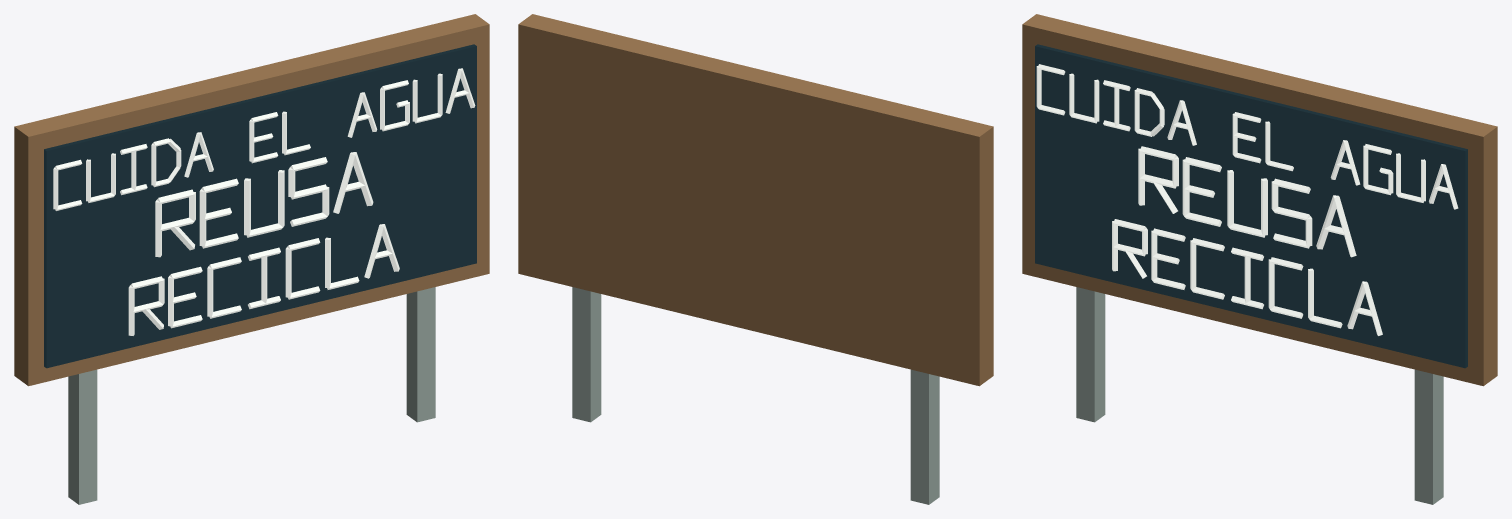
Rendered from PLAZA-014.glb.
3 renders of one model, left to right at view 1: azimuth 30°, elevation 25°; view 2: azimuth 150°, elevation 25°; view 3: azimuth 330°, elevation 25°, orthographic.
Visible parts, largest first — view 1: PLAZA-014.006; view 2: PLAZA-014.006; view 3: PLAZA-014.006.
Boxes of the visible parts, <box> form: PLAZA-014.006: <box>14,14,489,504</box>; PLAZA-014.006: <box>518,14,993,504</box>; PLAZA-014.006: <box>1022,14,1497,504</box>.
Size of the model in its own units: 3 by 2.38 by 0.2421.
